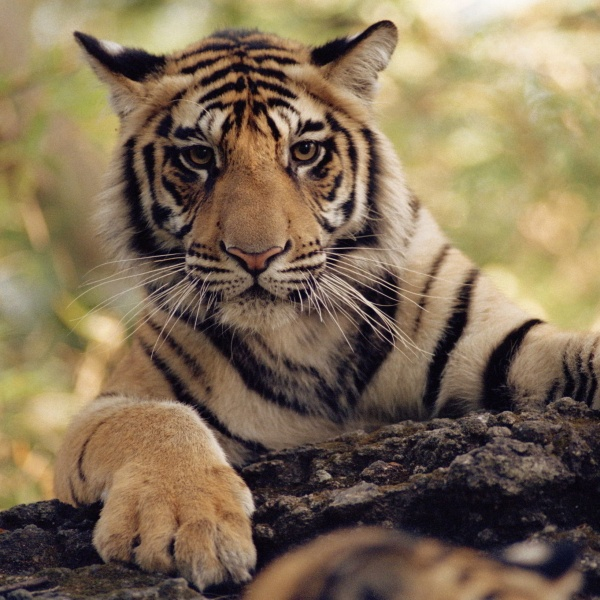Tiger: (66, 23, 600, 593)
